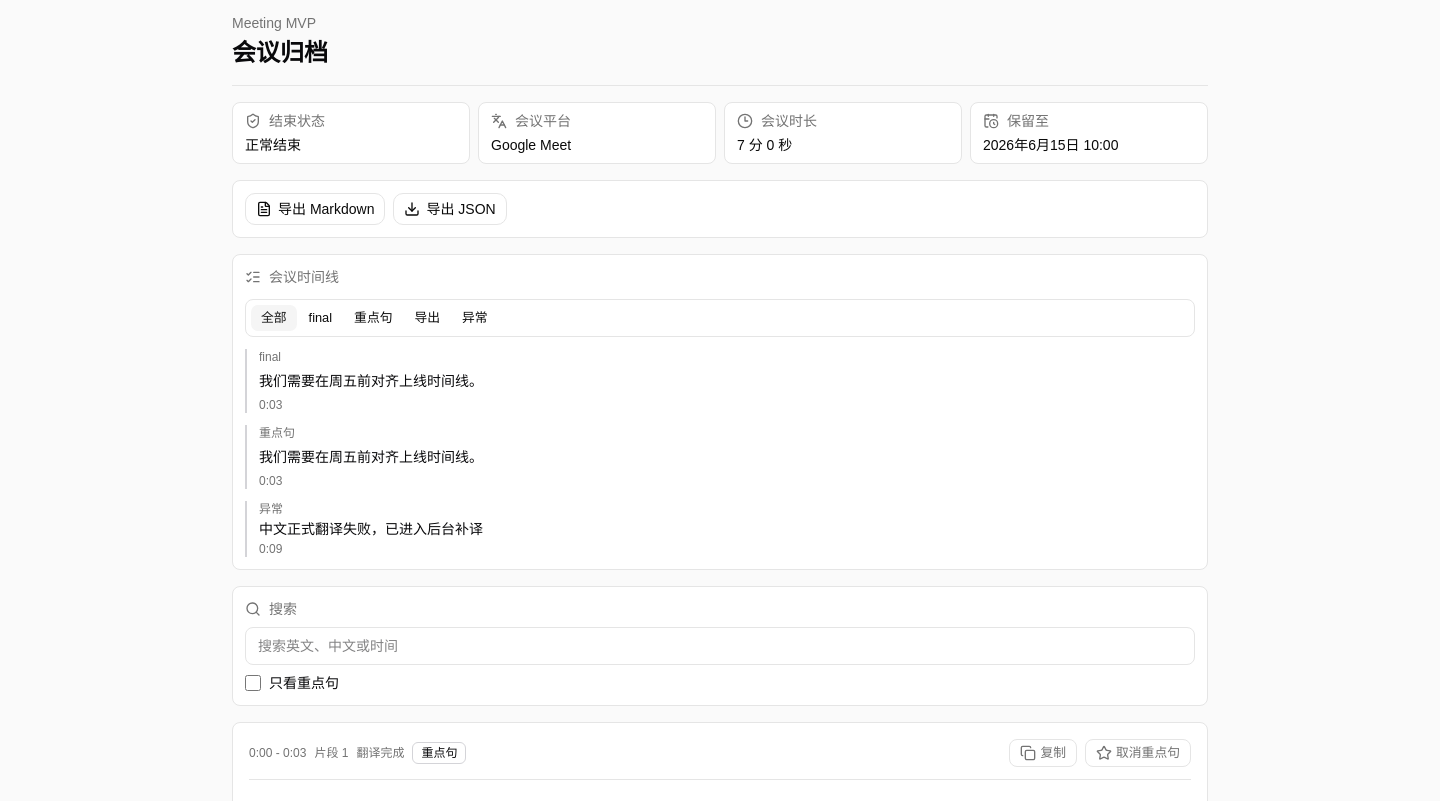
Scenario: ArchivePage › shows a clipboard failure notice without clearing archive content
What coordinates should you click on to do the following:
click the button with aria-label "复制片段 1"
I would click on:
 (1043, 753)
Its box is [1009,739,1077,767].
(page scrolled)
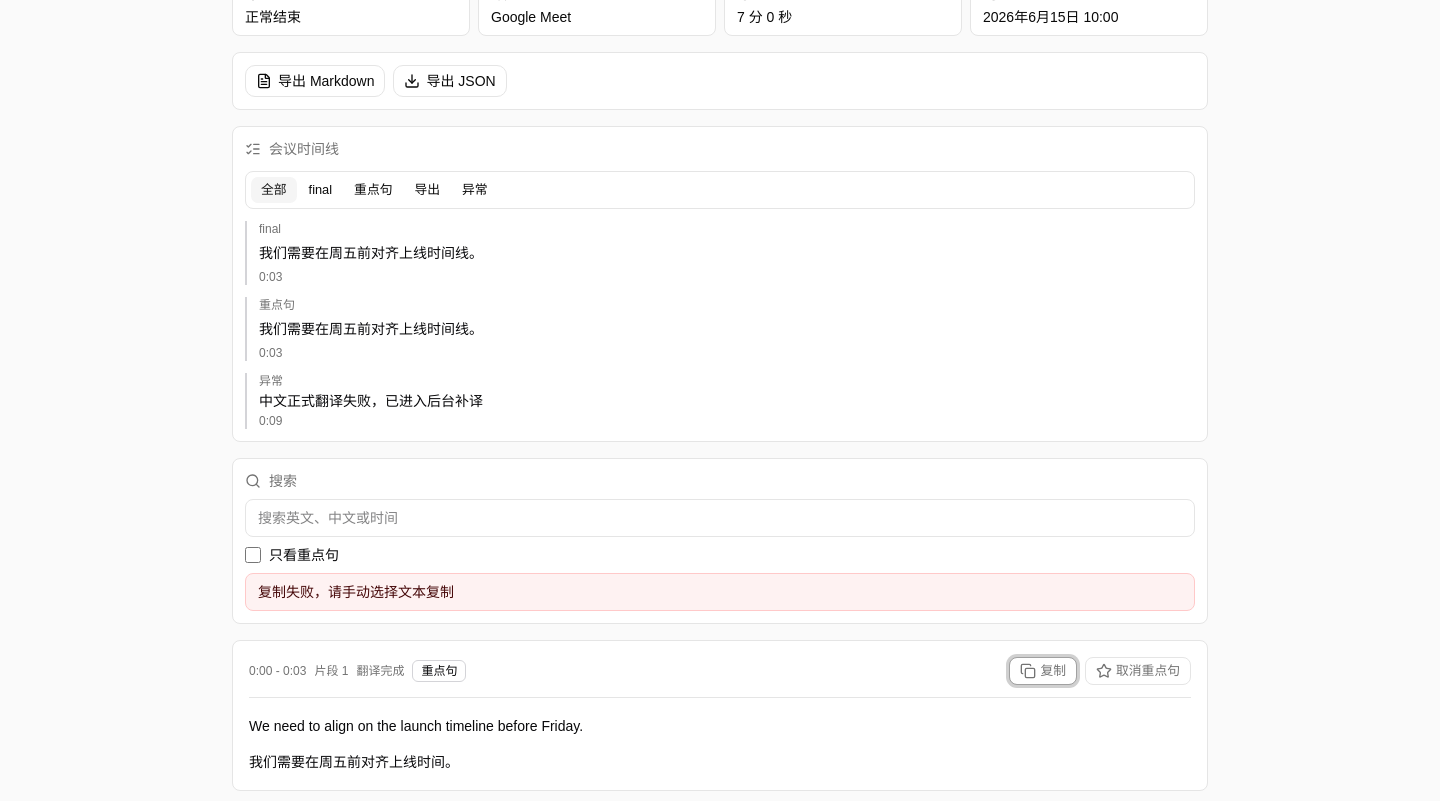
Expected: the text "We need to align on the launch timeline before Friday." is shown, [249,718,583,734]
Result: the message reads "复制失败，请手动选择文本复制" at [258,584,454,600]
